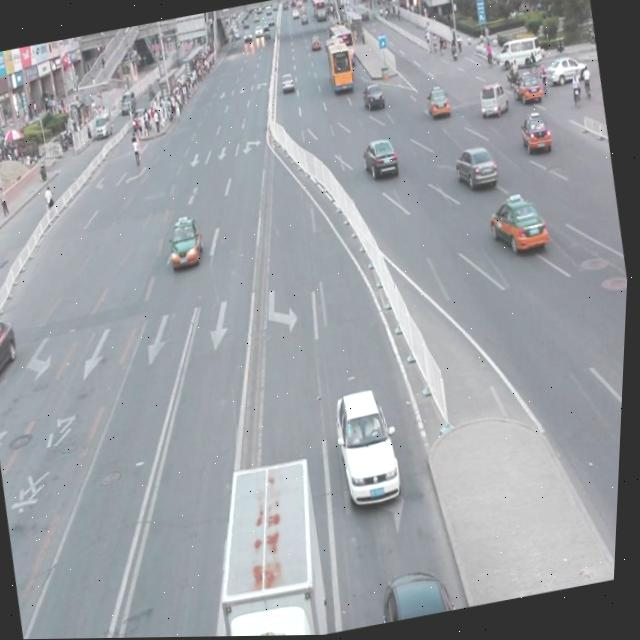bus: (200, 451, 343, 637)
car: (331, 384, 410, 509), (379, 561, 459, 624), (486, 193, 551, 258), (165, 213, 209, 272), (452, 144, 501, 195), (359, 136, 401, 180), (0, 315, 26, 383), (517, 112, 554, 157)
